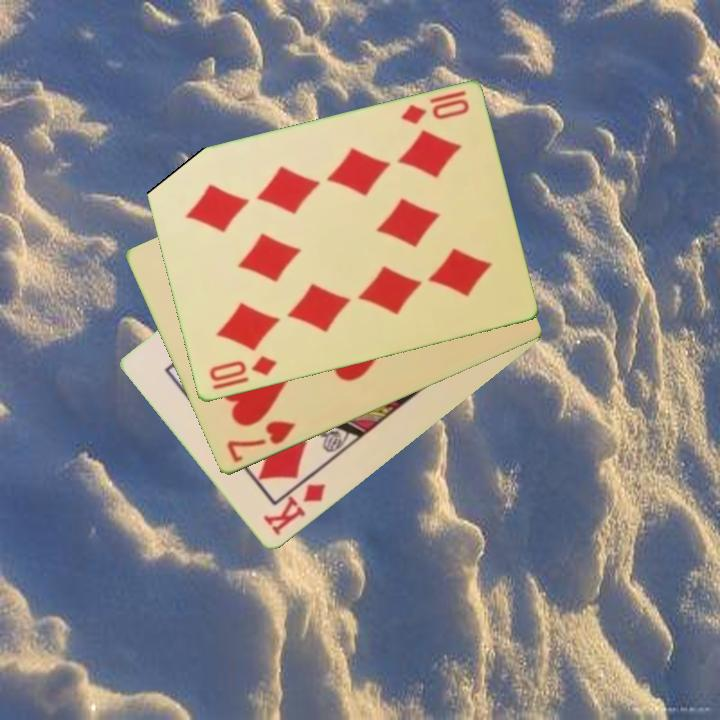10d: (205, 352, 280, 385), (397, 95, 472, 128)
7h: (223, 417, 299, 466)
Kd: (259, 480, 329, 539)
